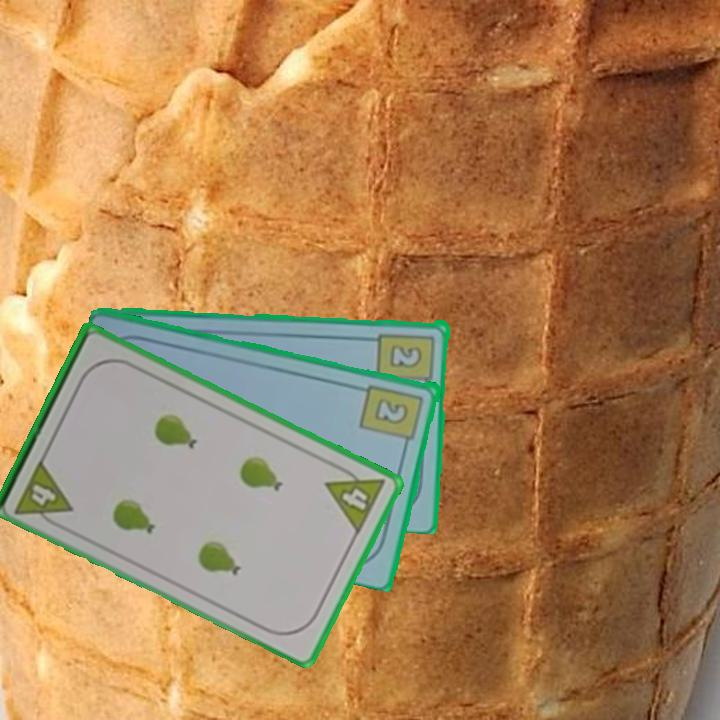2b: (357, 380, 427, 451), (375, 329, 438, 392)
4p: (322, 459, 388, 537), (11, 454, 75, 532)
